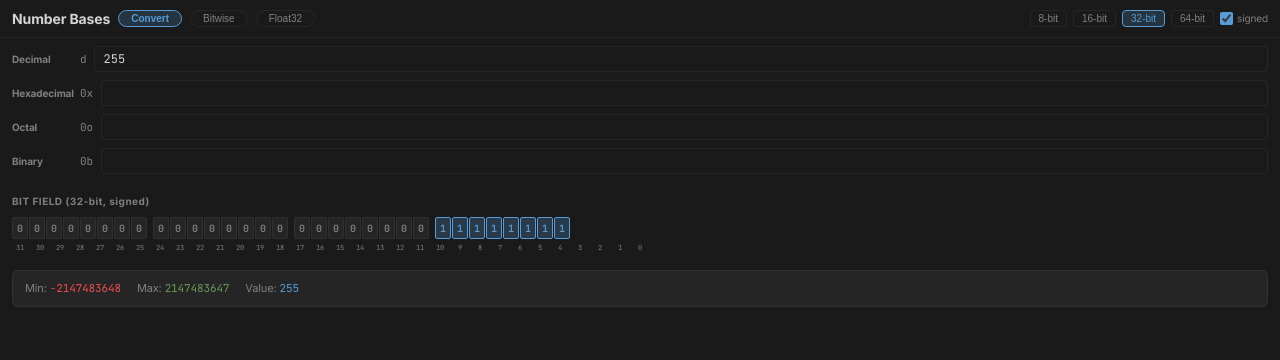
Scenario: NumberBasePanel — Bitwise tab (UI) › shows bitwise operation results when Bitwise tab is active
Click the button "Bitwise".
click(219, 18)  # box [190,10,248,27]
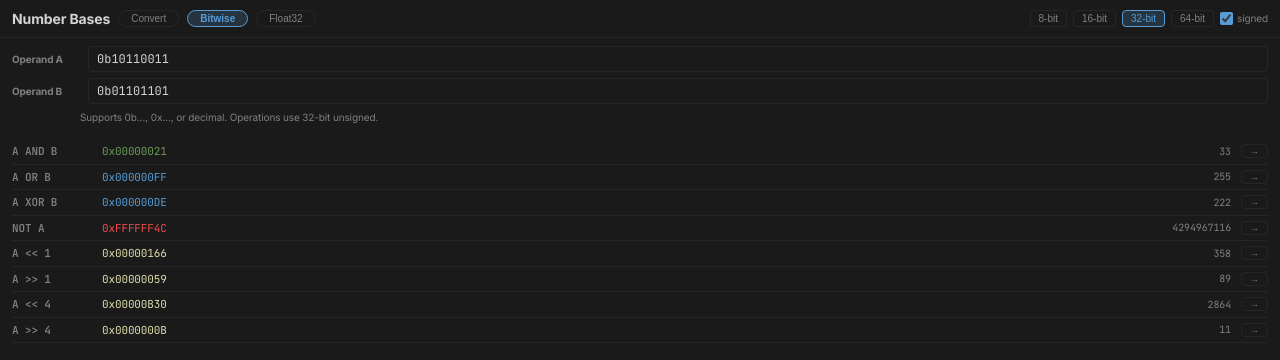
Expected: the text "A AND B" is shown, [12,144,57,158]
Expected: the text "A OR B" is shown, [12,170,51,184]
Expected: the text "A XOR B" is shown, [12,195,57,209]
